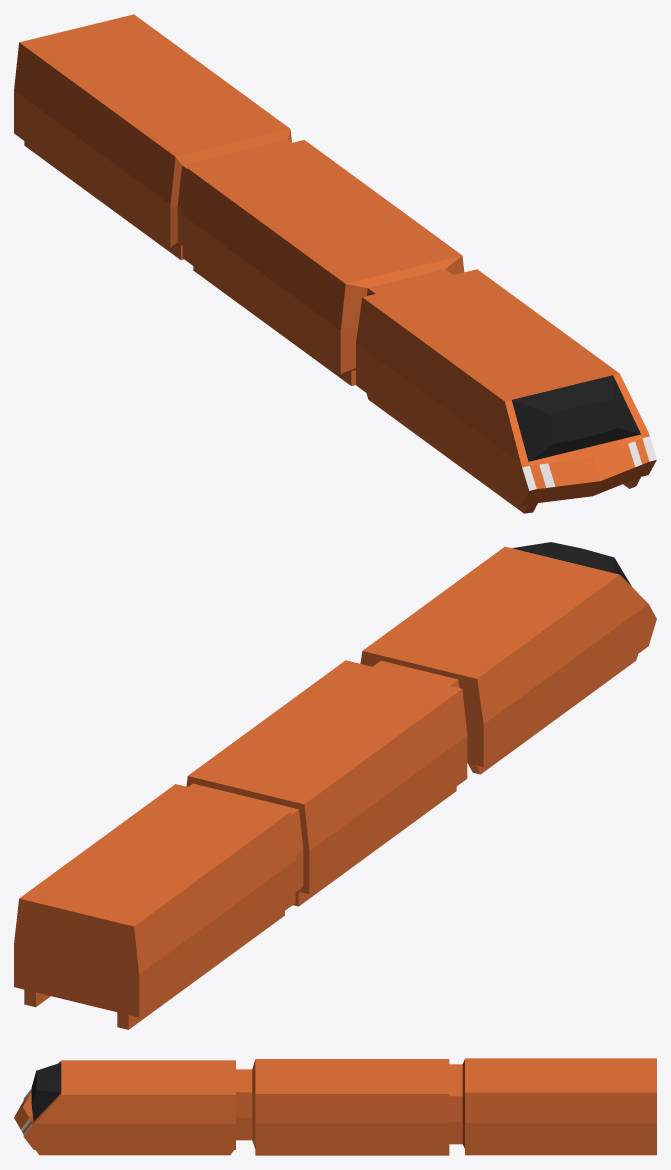
Rendered from train model.fbx.
3 renders of one model, top to bottom at view 1: azimuth 30°, elevation 25°; view 2: azimuth 150°, elevation 25°; view 3: azimuth 270°, elevation 25°, orthographic. The views are drawn at different scales.
Visible parts, largest first — view 1: Plane; view 2: Plane; view 3: Plane.
Part boxes in pixels (box(x1,y1,x2,y2)): Plane: box(14, 14, 656, 513); Plane: box(14, 542, 656, 1029); Plane: box(14, 1058, 656, 1155).
Bounding box in the file's own units: 14098 × 11102 × 100267.
